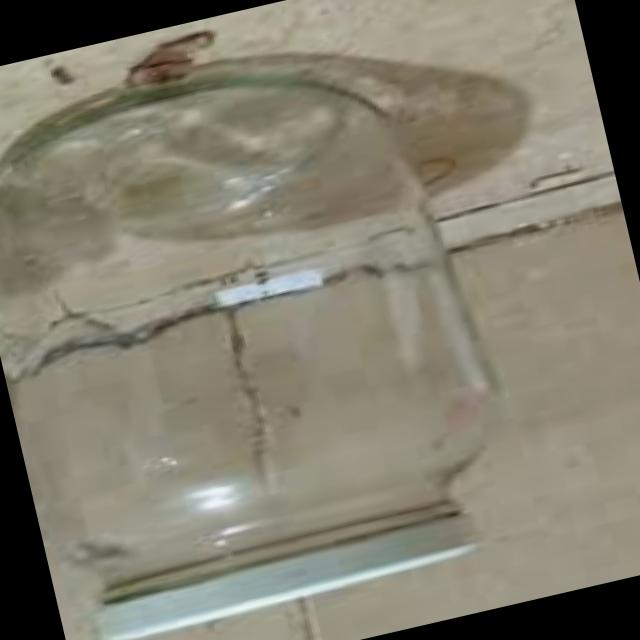ToplesKaca: (0, 35, 522, 640)
